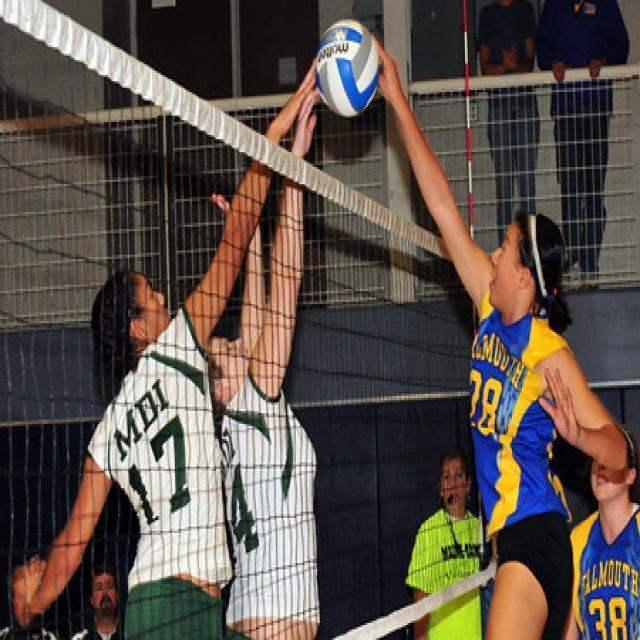volleyball: (316, 19, 381, 120)
